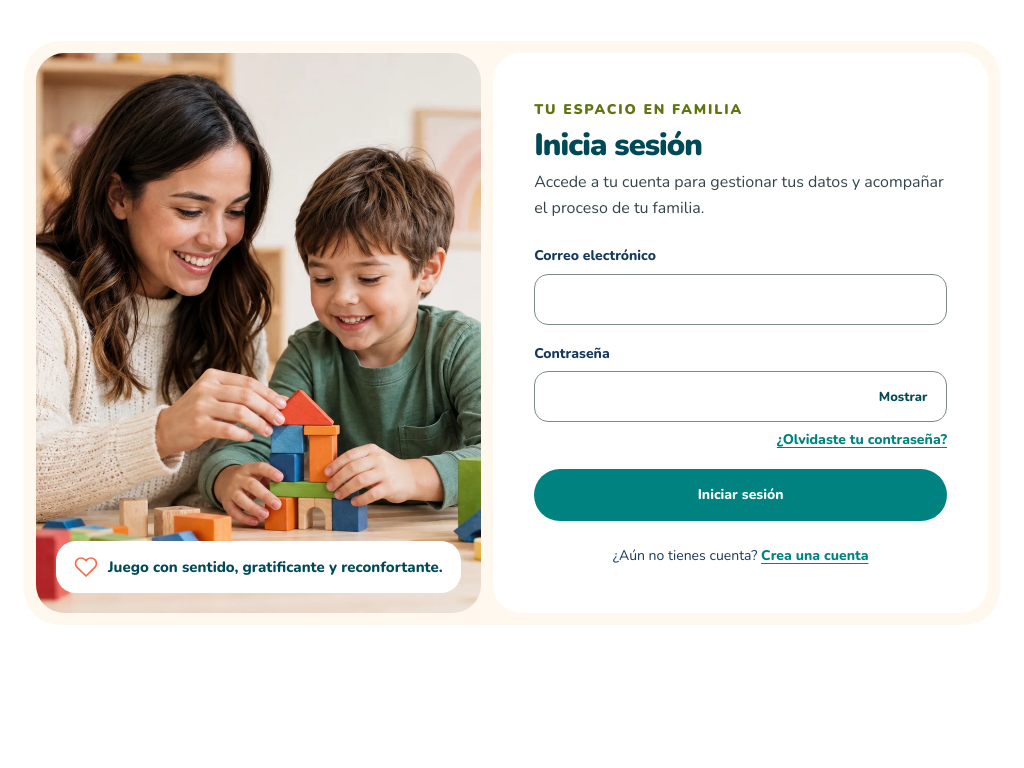
Test case: LoginComponent › shows the API error message when the credentials are wrong
Type "ana@example.com" into the field with id "login-email" at (741, 299), box [534,274,947,325]
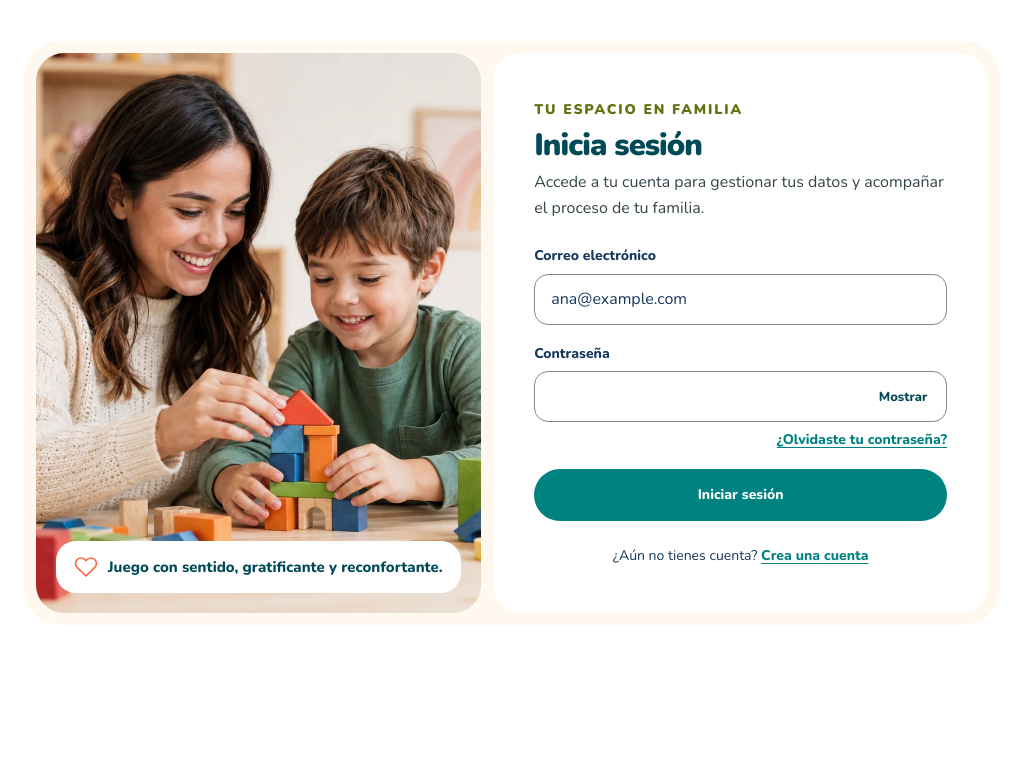
Type "incorrecta1" into the password field labelled "Contraseña" at (741, 397), box [534,372,947,422]
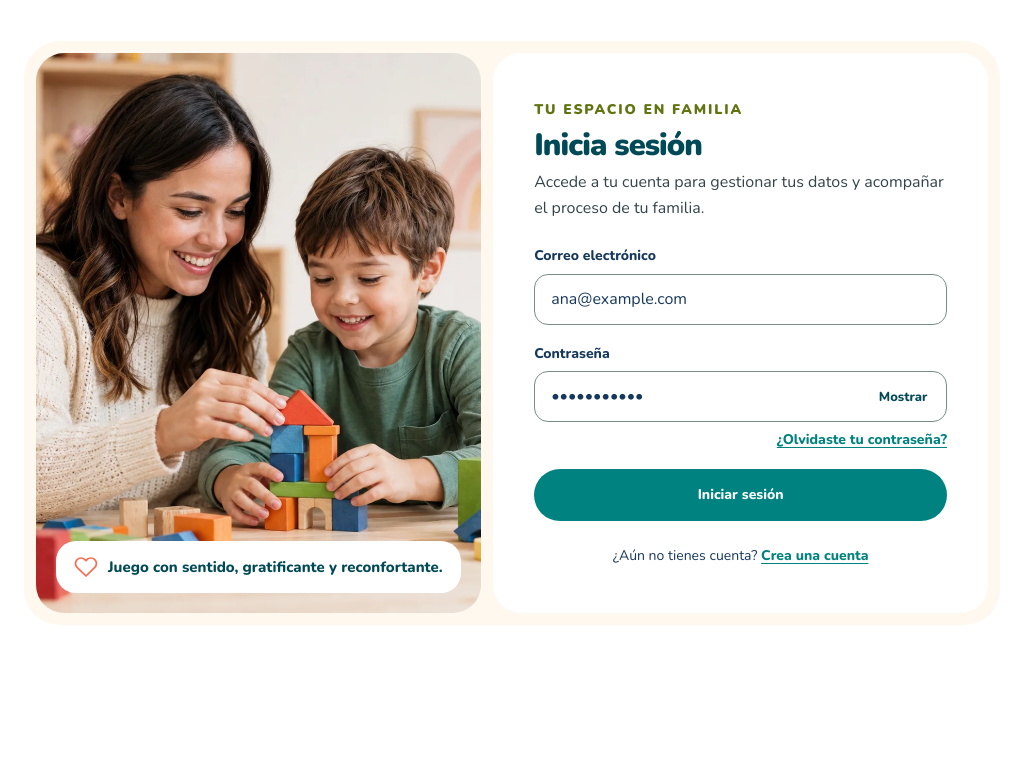
Click the submit button at (741, 495), box [534,469,947,521]
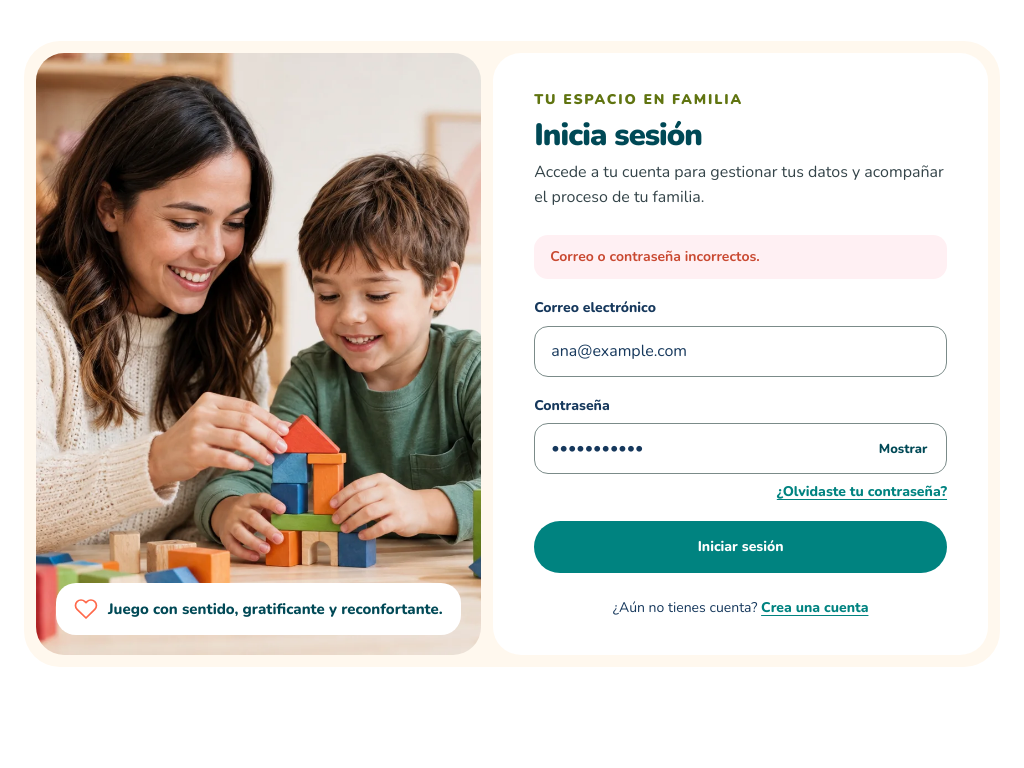
Check: the text with class "form-alert--error" reads "Correo o contraseña incorrectos.", box [550,247,760,266]
